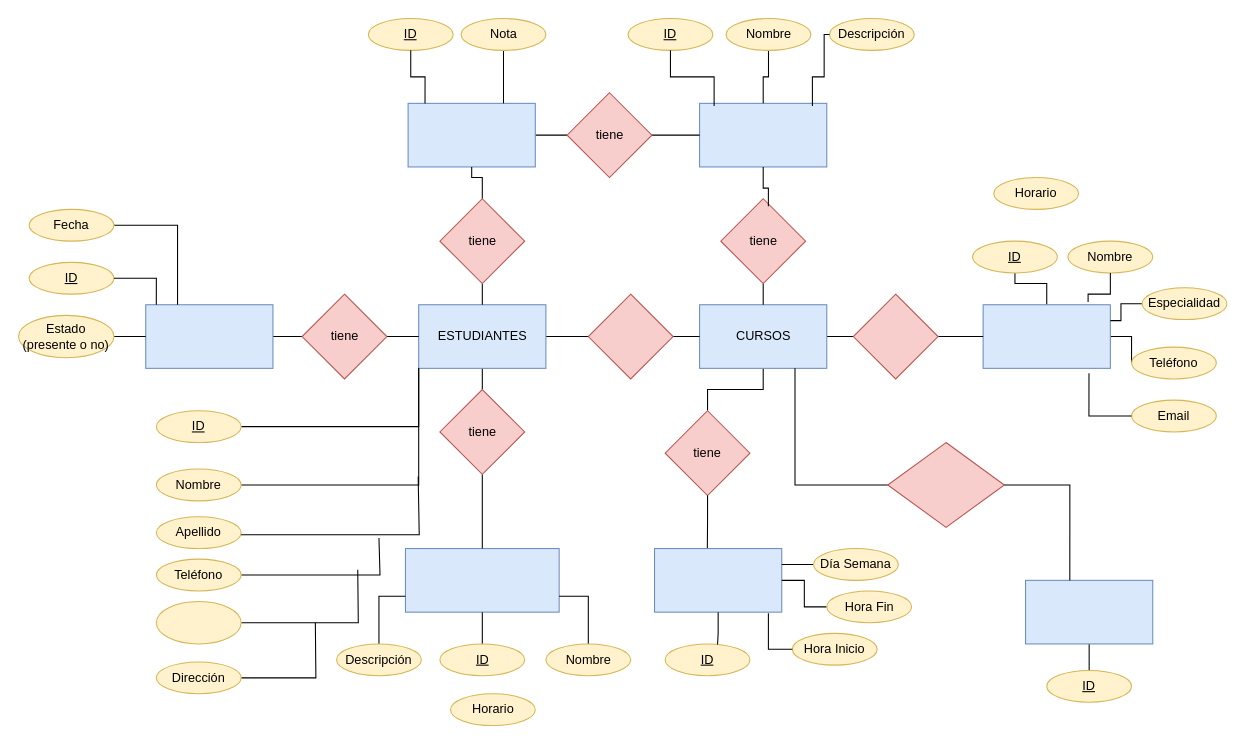
The diagram is 1245 pixels wide and 744 high, and some of its shapes have lost their labels. Here are the shapes that lost their labels. From the top down, the box of each, then its label:
(407, 102, 535, 167): CALIFICACIONES
(699, 102, 827, 167): MATERIAS
(145, 304, 273, 368): ASISTENCIAS
(587, 293, 673, 379): matriculado
(852, 293, 938, 379): enseña
(982, 304, 1110, 368): PROFESOR
(887, 441, 1004, 527): lleva a cabo en
(404, 547, 559, 612): ACTIVIDADES EXTRACURRICULARES
(653, 547, 782, 612): HORARIOS
(155, 600, 241, 644): Fecha Nacimiento
(1024, 579, 1153, 644): AULAS
